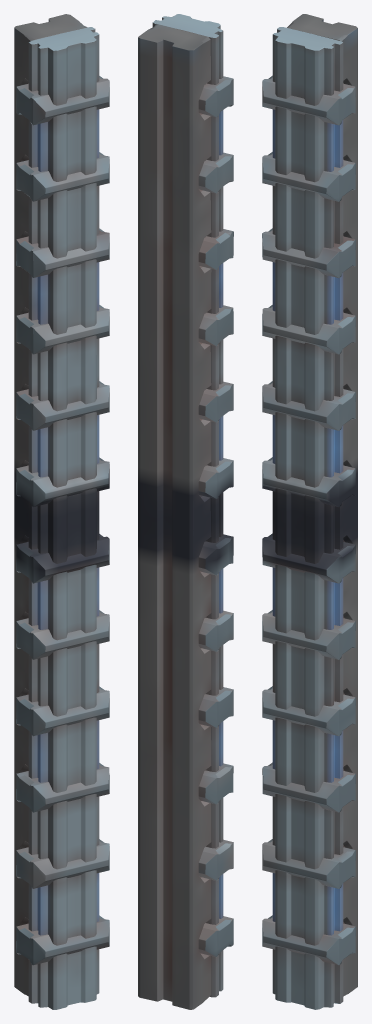
File: Pillar_Thin_Tek_C.glb
3 views of the same model, side by side, from view 1: azimuth 30°, elevation 25°; view 2: azimuth 150°, elevation 25°; view 3: azimuth 330°, elevation 25° (orthographic).
Visible parts, largest first — view 1: SM_Tek_PillarThin; view 2: SM_Tek_PillarThin; view 3: SM_Tek_PillarThin.
Part boxes in pixels (left/top/right/bottom): SM_Tek_PillarThin: left=14, top=14, right=109, bottom=1009; SM_Tek_PillarThin: left=138, top=14, right=233, bottom=1009; SM_Tek_PillarThin: left=262, top=14, right=357, bottom=1009.
Bounding box in the file's own units: 0.2517 × 3 × 0.2053.
Materials: 1 (1 with a texture image).
